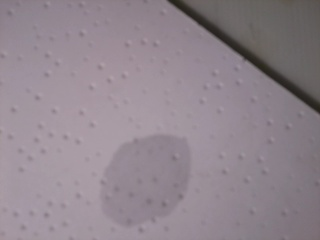Water_detected: (104, 141, 184, 213)
